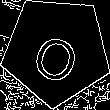O_N: (27, 19, 85, 83)
